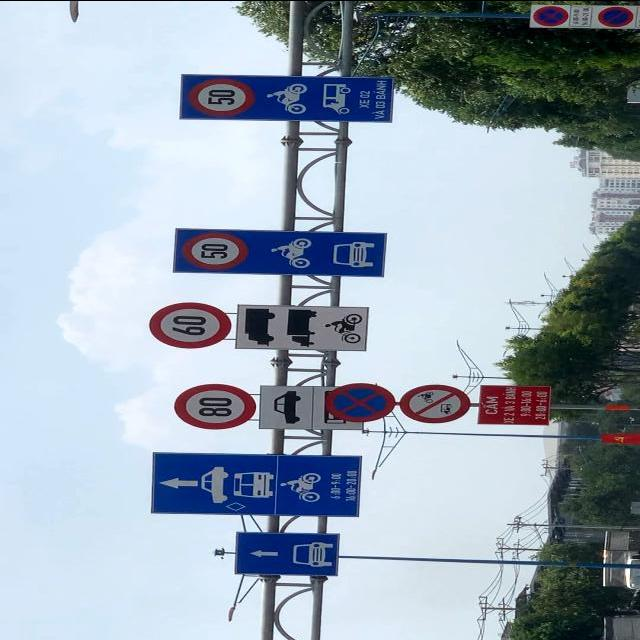P-127: (145, 304, 232, 348), (172, 382, 255, 428), (325, 380, 395, 422)
